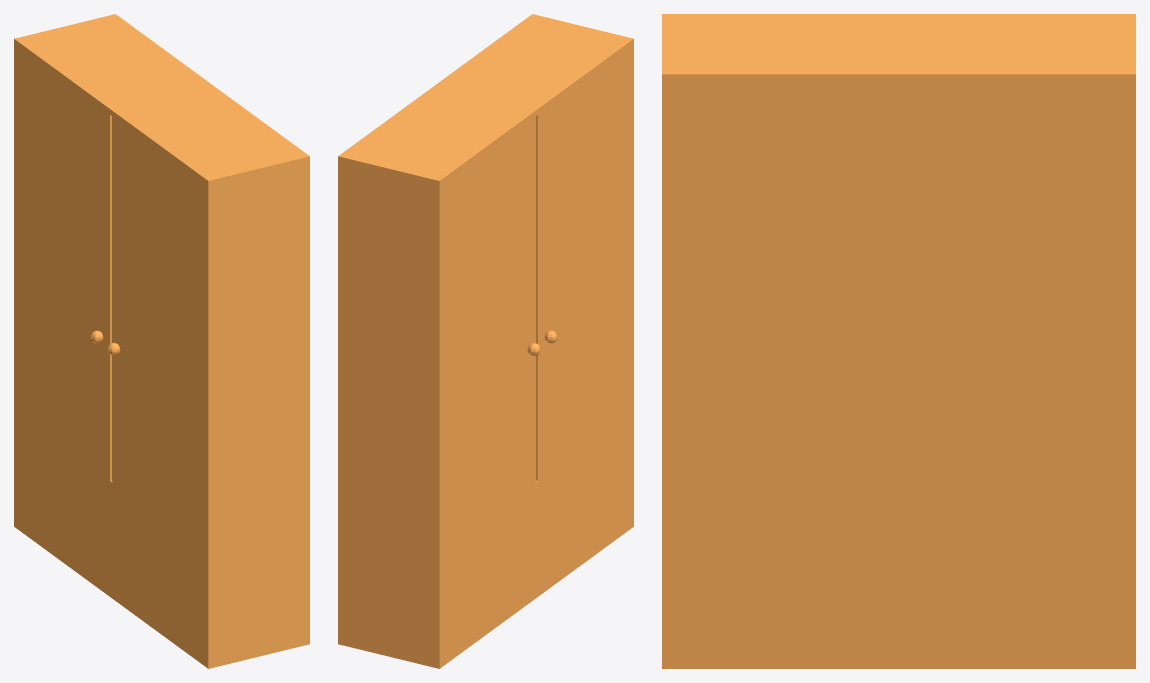
The model's file is armario.fbx.
3 views of the same model, side by side, from view 1: azimuth 30°, elevation 25°; view 2: azimuth 150°, elevation 25°; view 3: azimuth 270°, elevation 25° (orthographic). The views are drawn at different scales.
Parts seen in each view (by area): view 1: Cube; view 2: Cube; view 3: Cube.
Part boxes in pixels (bbox=[...]): Cube: bbox=[14, 14, 309, 668]; Cube: bbox=[338, 14, 633, 668]; Cube: bbox=[662, 14, 1135, 668].
Size of the model in its own units: 204 by 841 by 607.
